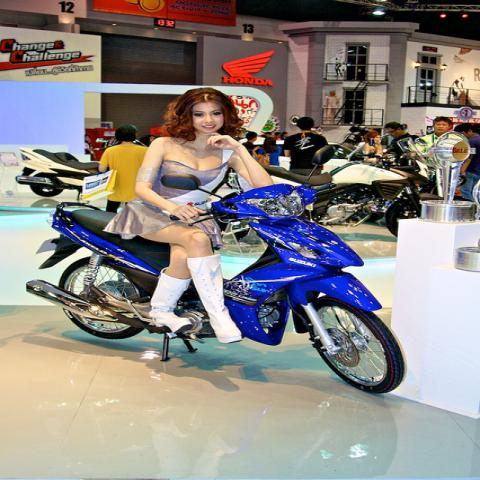motorcycle: (30, 183, 408, 392), (318, 156, 441, 237), (15, 144, 100, 198)
